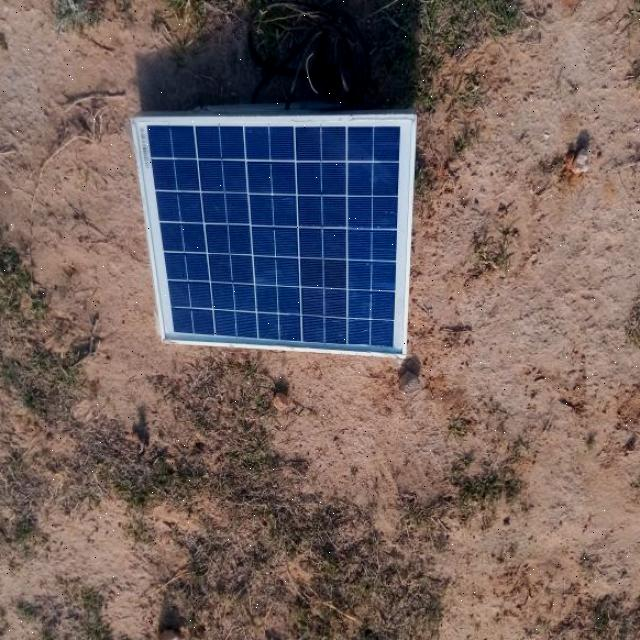Normal Solar Panel: (132, 114, 418, 356)
